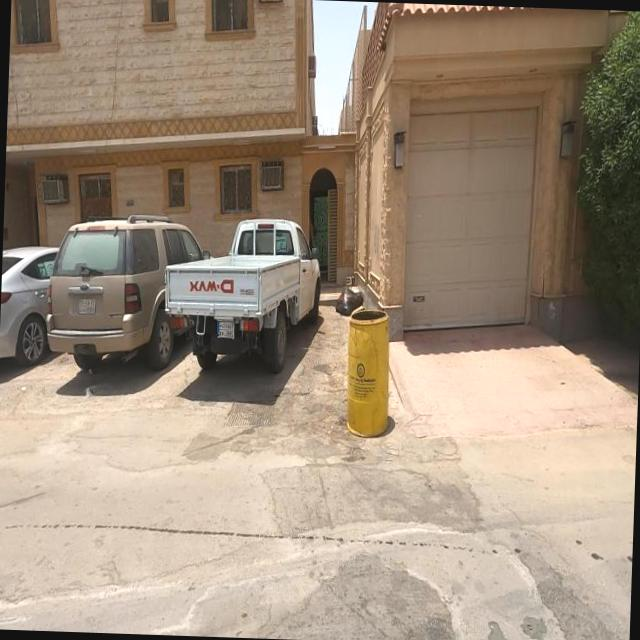debris: (302, 226, 403, 363)
